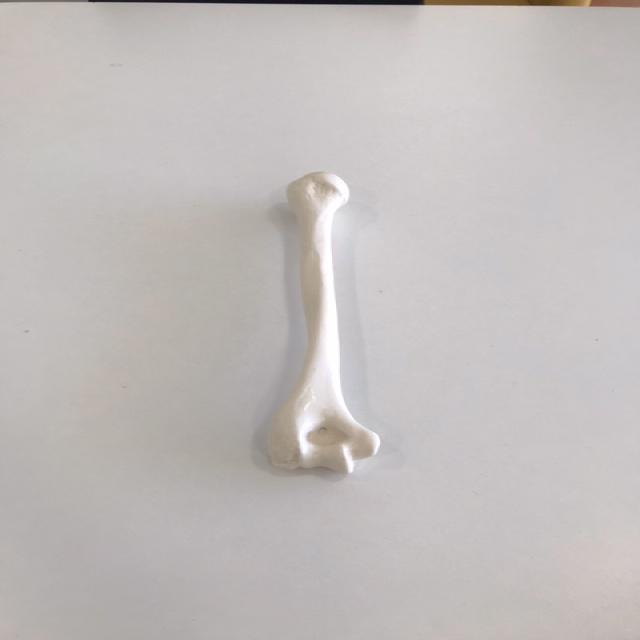bone: (266, 168, 382, 481)
